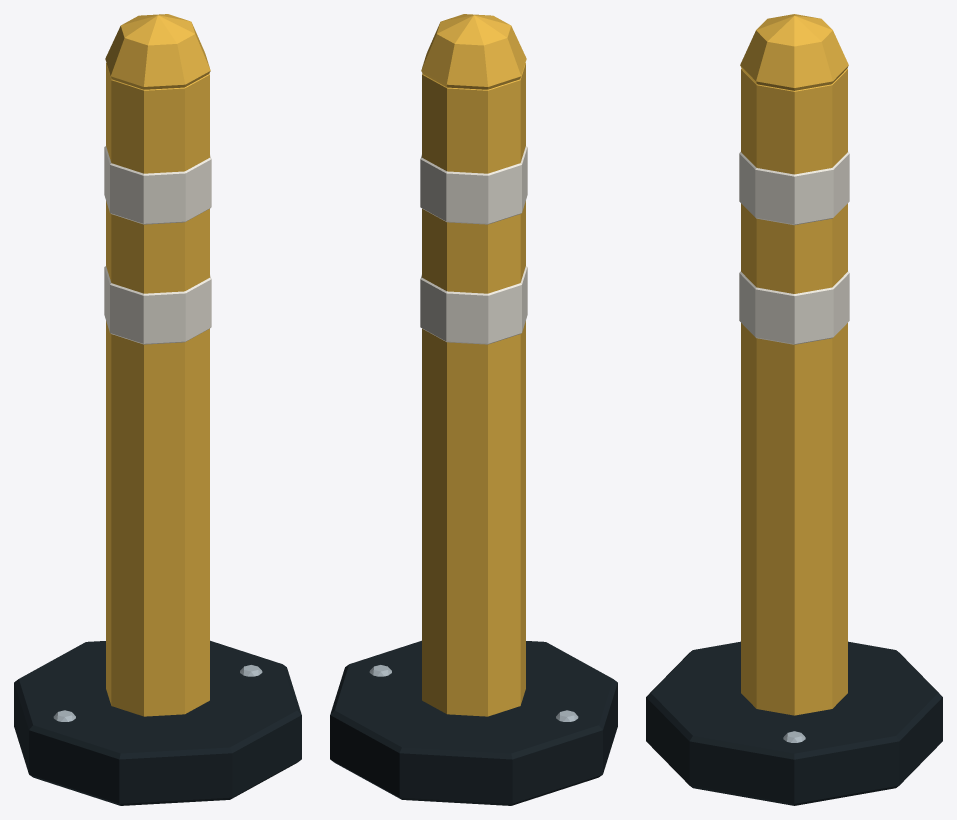
Rendered from b01_flexible_lane_delineator.glb.
The picture shows the model from 3 angles, left to right: view 1: azimuth 30°, elevation 25°; view 2: azimuth 150°, elevation 25°; view 3: azimuth 270°, elevation 25°; orthographic projection.
Visible parts, largest first — view 1: b01_flexible_lane_delineator; view 2: b01_flexible_lane_delineator; view 3: b01_flexible_lane_delineator.
Part boxes in pixels (x1=…): b01_flexible_lane_delineator: x1=14, y1=14, x2=301, y2=805; b01_flexible_lane_delineator: x1=330, y1=14, x2=617, y2=805; b01_flexible_lane_delineator: x1=646, y1=14, x2=942, y2=805.
Bounding box in the file's own units: 0.36 × 0.976 × 0.36.
